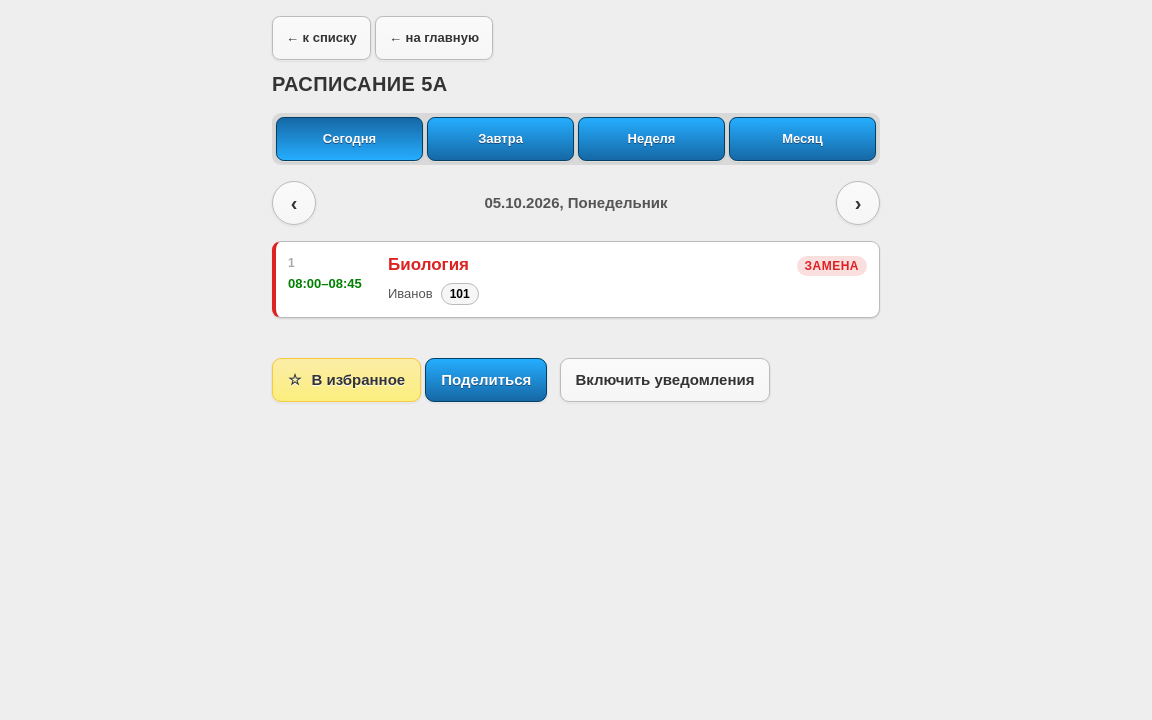
Scenario: Schedule screen › schedule view setting › opens the exchange diff from the lesson badge in the «Карточки» view
Expected: the text "Математика" is not shown
Click the button "Замена": (832, 266) [797,256,867,276]
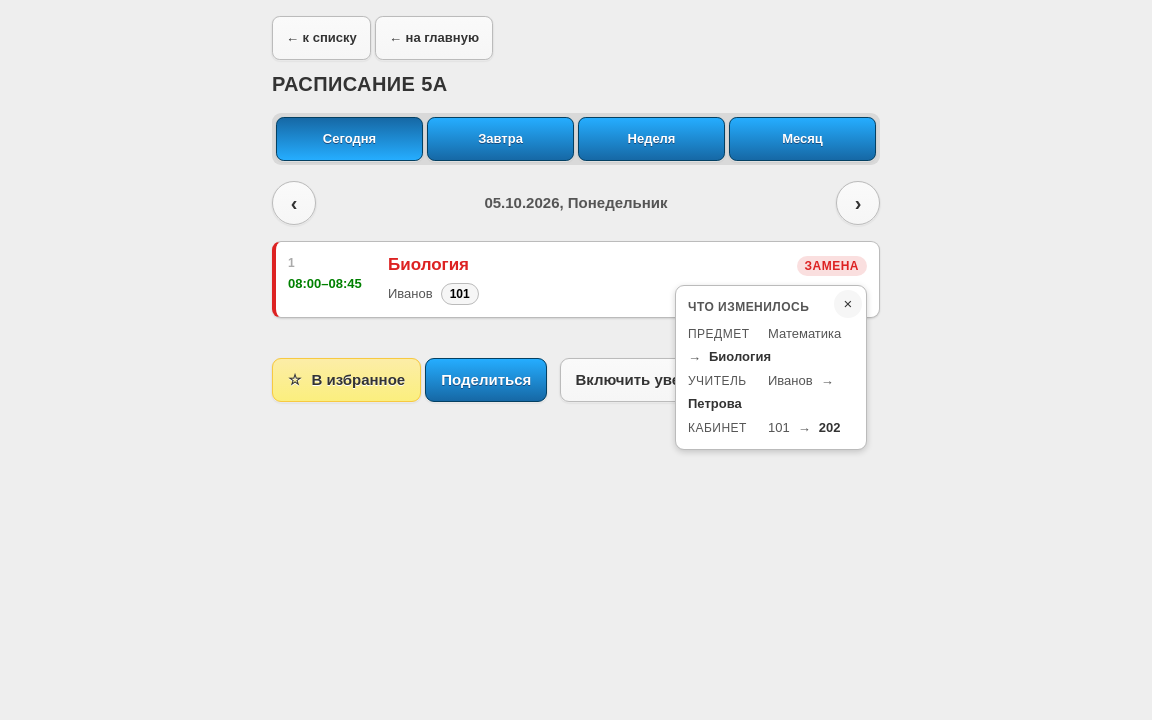
Now the text "Математика" is shown, box [768,324,841,343]
Now the text "Петрова" is shown, box [688,394,742,414]
